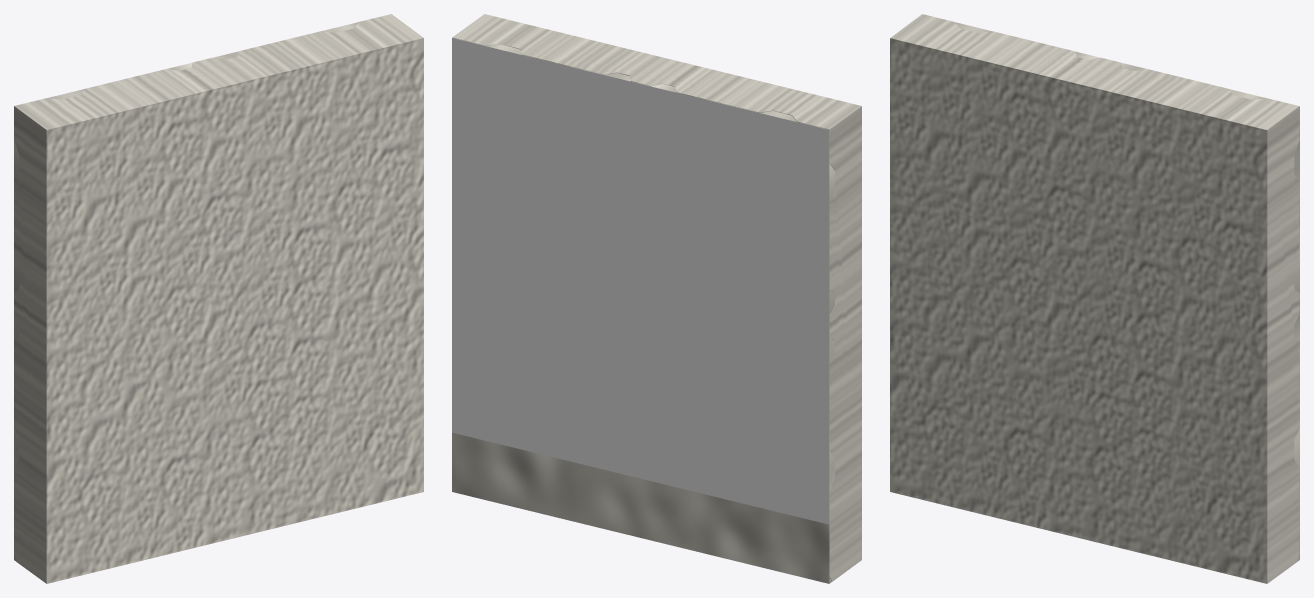
File: f_finaldoor 1.fbx
3 renders of one model, left to right at view 1: azimuth 30°, elevation 25°; view 2: azimuth 150°, elevation 25°; view 3: azimuth 330°, elevation 25°, orthographic.
Visible parts, largest first — view 1: f_finaldoor, f_finaldooraura; view 2: f_finaldooraura, f_finaldoor; view 3: f_finaldoor, f_finaldooraura.
Boxes of the visible parts, box(x1,y1,x2,y2) form: f_finaldoor: box(14, 14, 423, 583); f_finaldooraura: box(14, 22, 358, 561); f_finaldooraura: box(452, 38, 834, 583); f_finaldoor: box(452, 14, 861, 581); f_finaldoor: box(890, 14, 1299, 583); f_finaldooraura: box(955, 22, 1299, 561).
Size of the model in its own units: 38.49 by 44.26 by 5.77.
3 materials, 3 textured.
